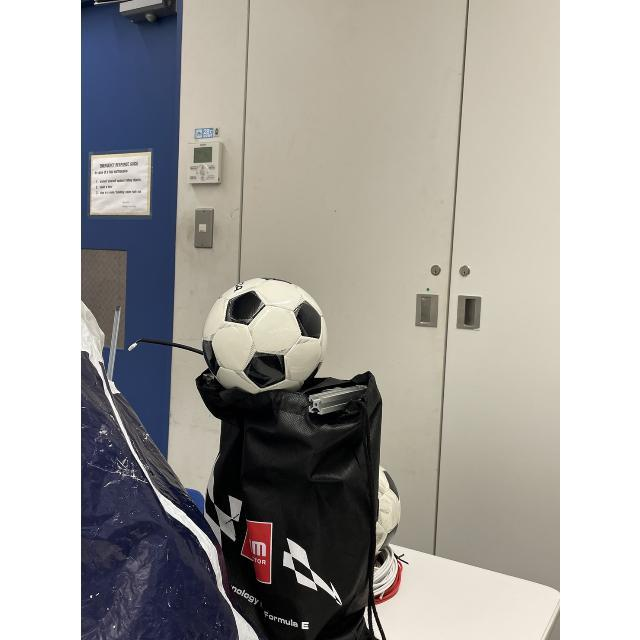ball: (201, 278, 329, 390)
